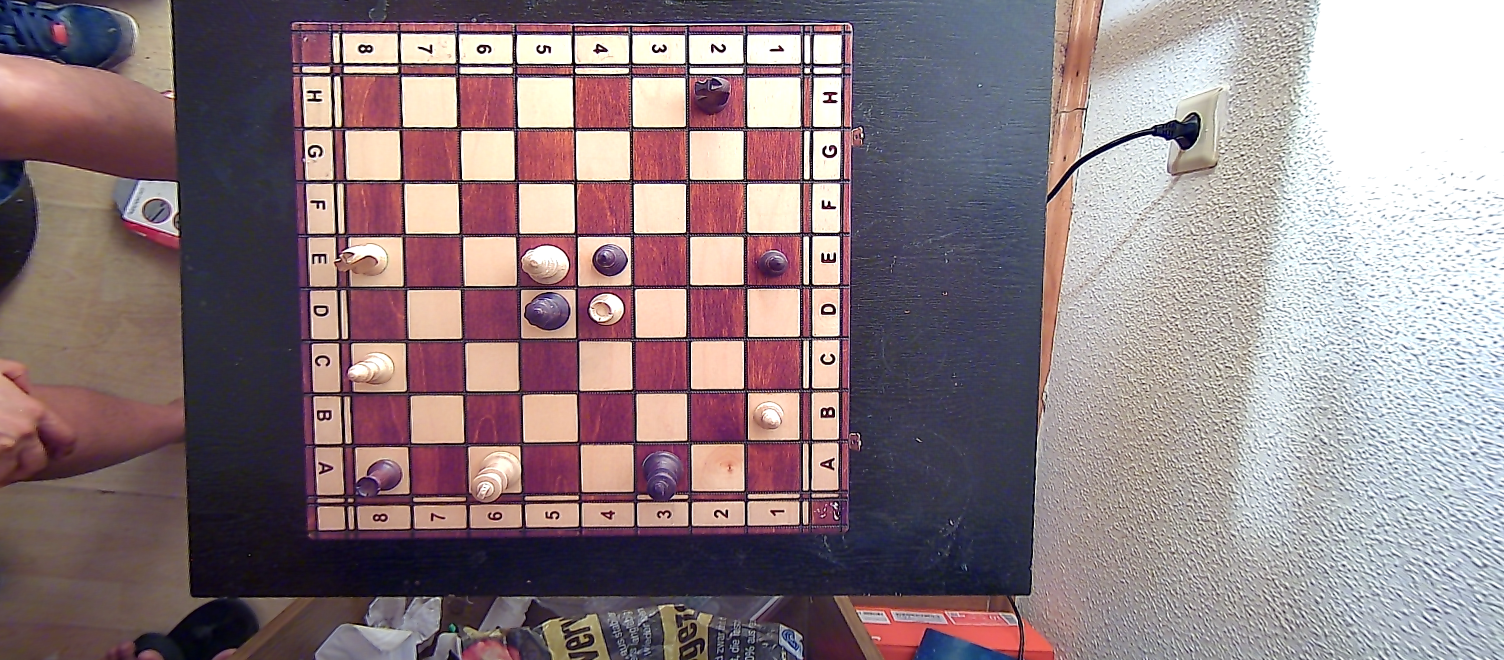black-bishop: (587, 242, 631, 281)
black-king: (641, 447, 685, 503)
black-knight: (689, 75, 734, 110)
black-pawn: (756, 245, 791, 283)
black-queen: (523, 292, 572, 333)
black-rook: (351, 456, 404, 500)
white-bishop: (348, 350, 395, 389)
white-king: (466, 451, 520, 505)
white-knight: (331, 241, 392, 282)
white-pawn: (750, 399, 786, 434)
white-queen: (519, 243, 569, 285)
white-rook: (586, 289, 626, 328)
